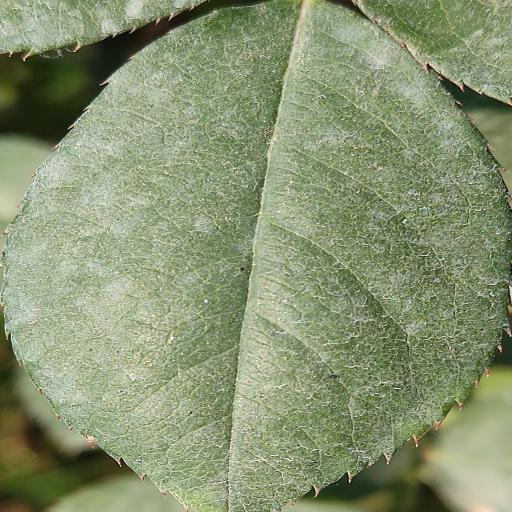healthy_leaf: (3, 1, 509, 512), (352, 0, 512, 105), (0, 0, 206, 57)
